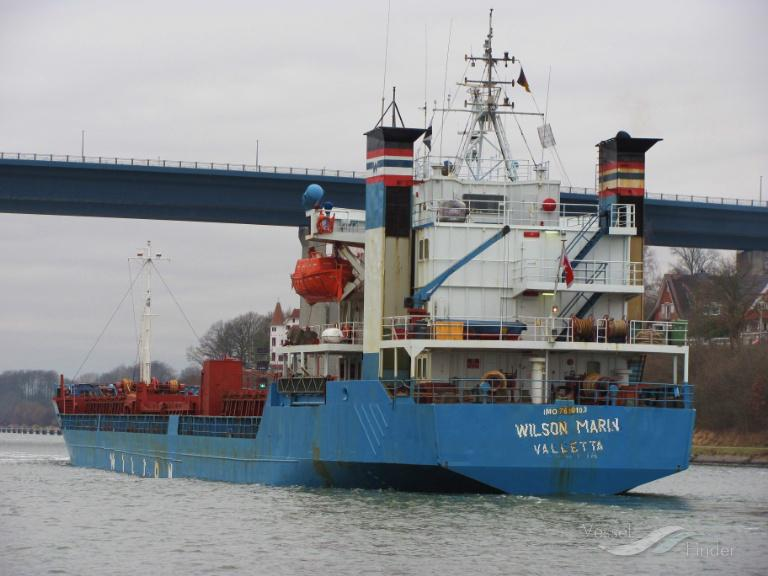OCR: (502, 406, 624, 464), (98, 446, 182, 478)
